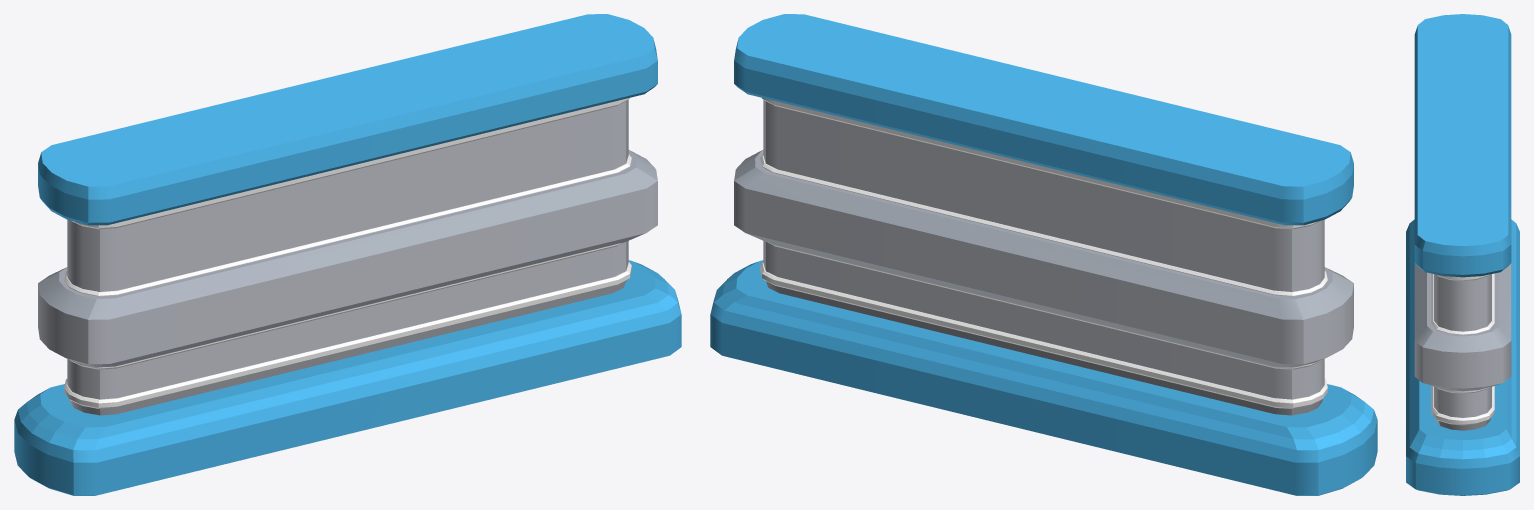
The model's file is Sci FI Wall.fbx.
3 views of the same model, side by side, from view 1: azimuth 30°, elevation 25°; view 2: azimuth 150°, elevation 25°; view 3: azimuth 270°, elevation 25° (orthographic). The views are drawn at different scales.
Visible parts, largest first — view 1: Game_Props_pCube16; view 2: Game_Props_pCube16; view 3: Game_Props_pCube16.
Boxes of the visible parts, x1,y1,x2,y2 form: Game_Props_pCube16: [14, 14, 681, 495]; Game_Props_pCube16: [710, 14, 1377, 495]; Game_Props_pCube16: [1406, 14, 1519, 495].
Bounding box in the file's own units: 10.44 × 4.72 × 2.01.
Materials: 1 (1 with a texture image).
